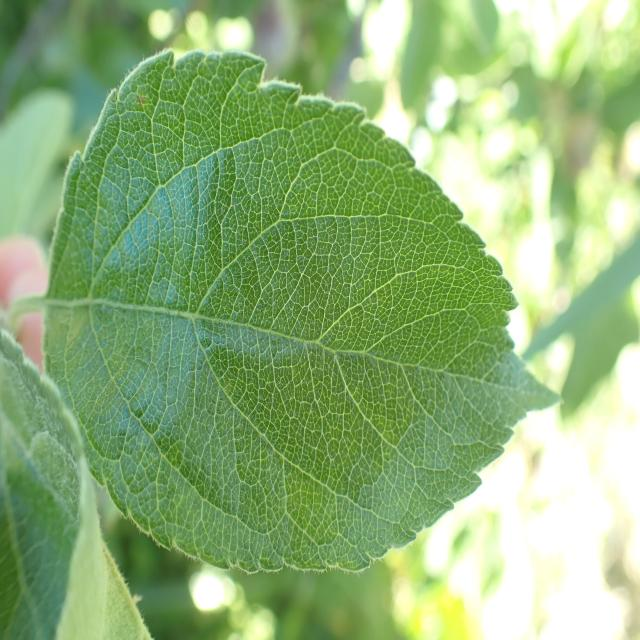healthy: (42, 46, 566, 576), (0, 326, 154, 640)
